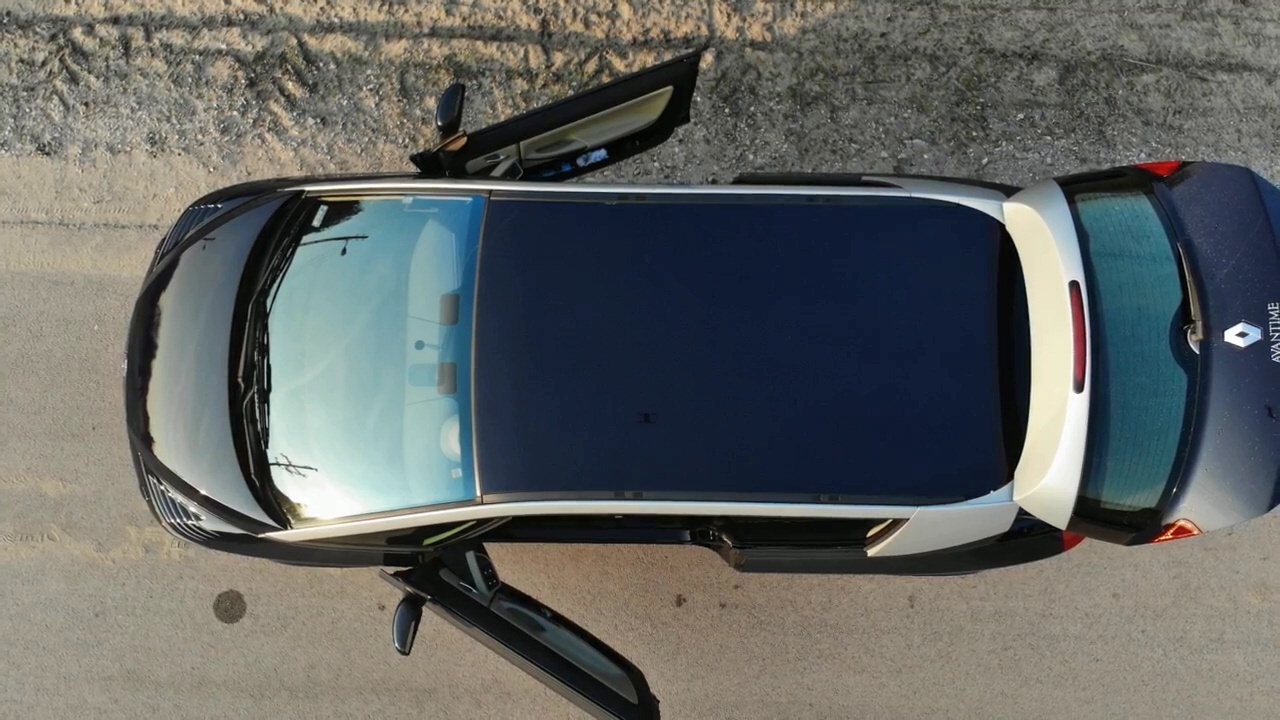araba: (121, 162, 1110, 663)
